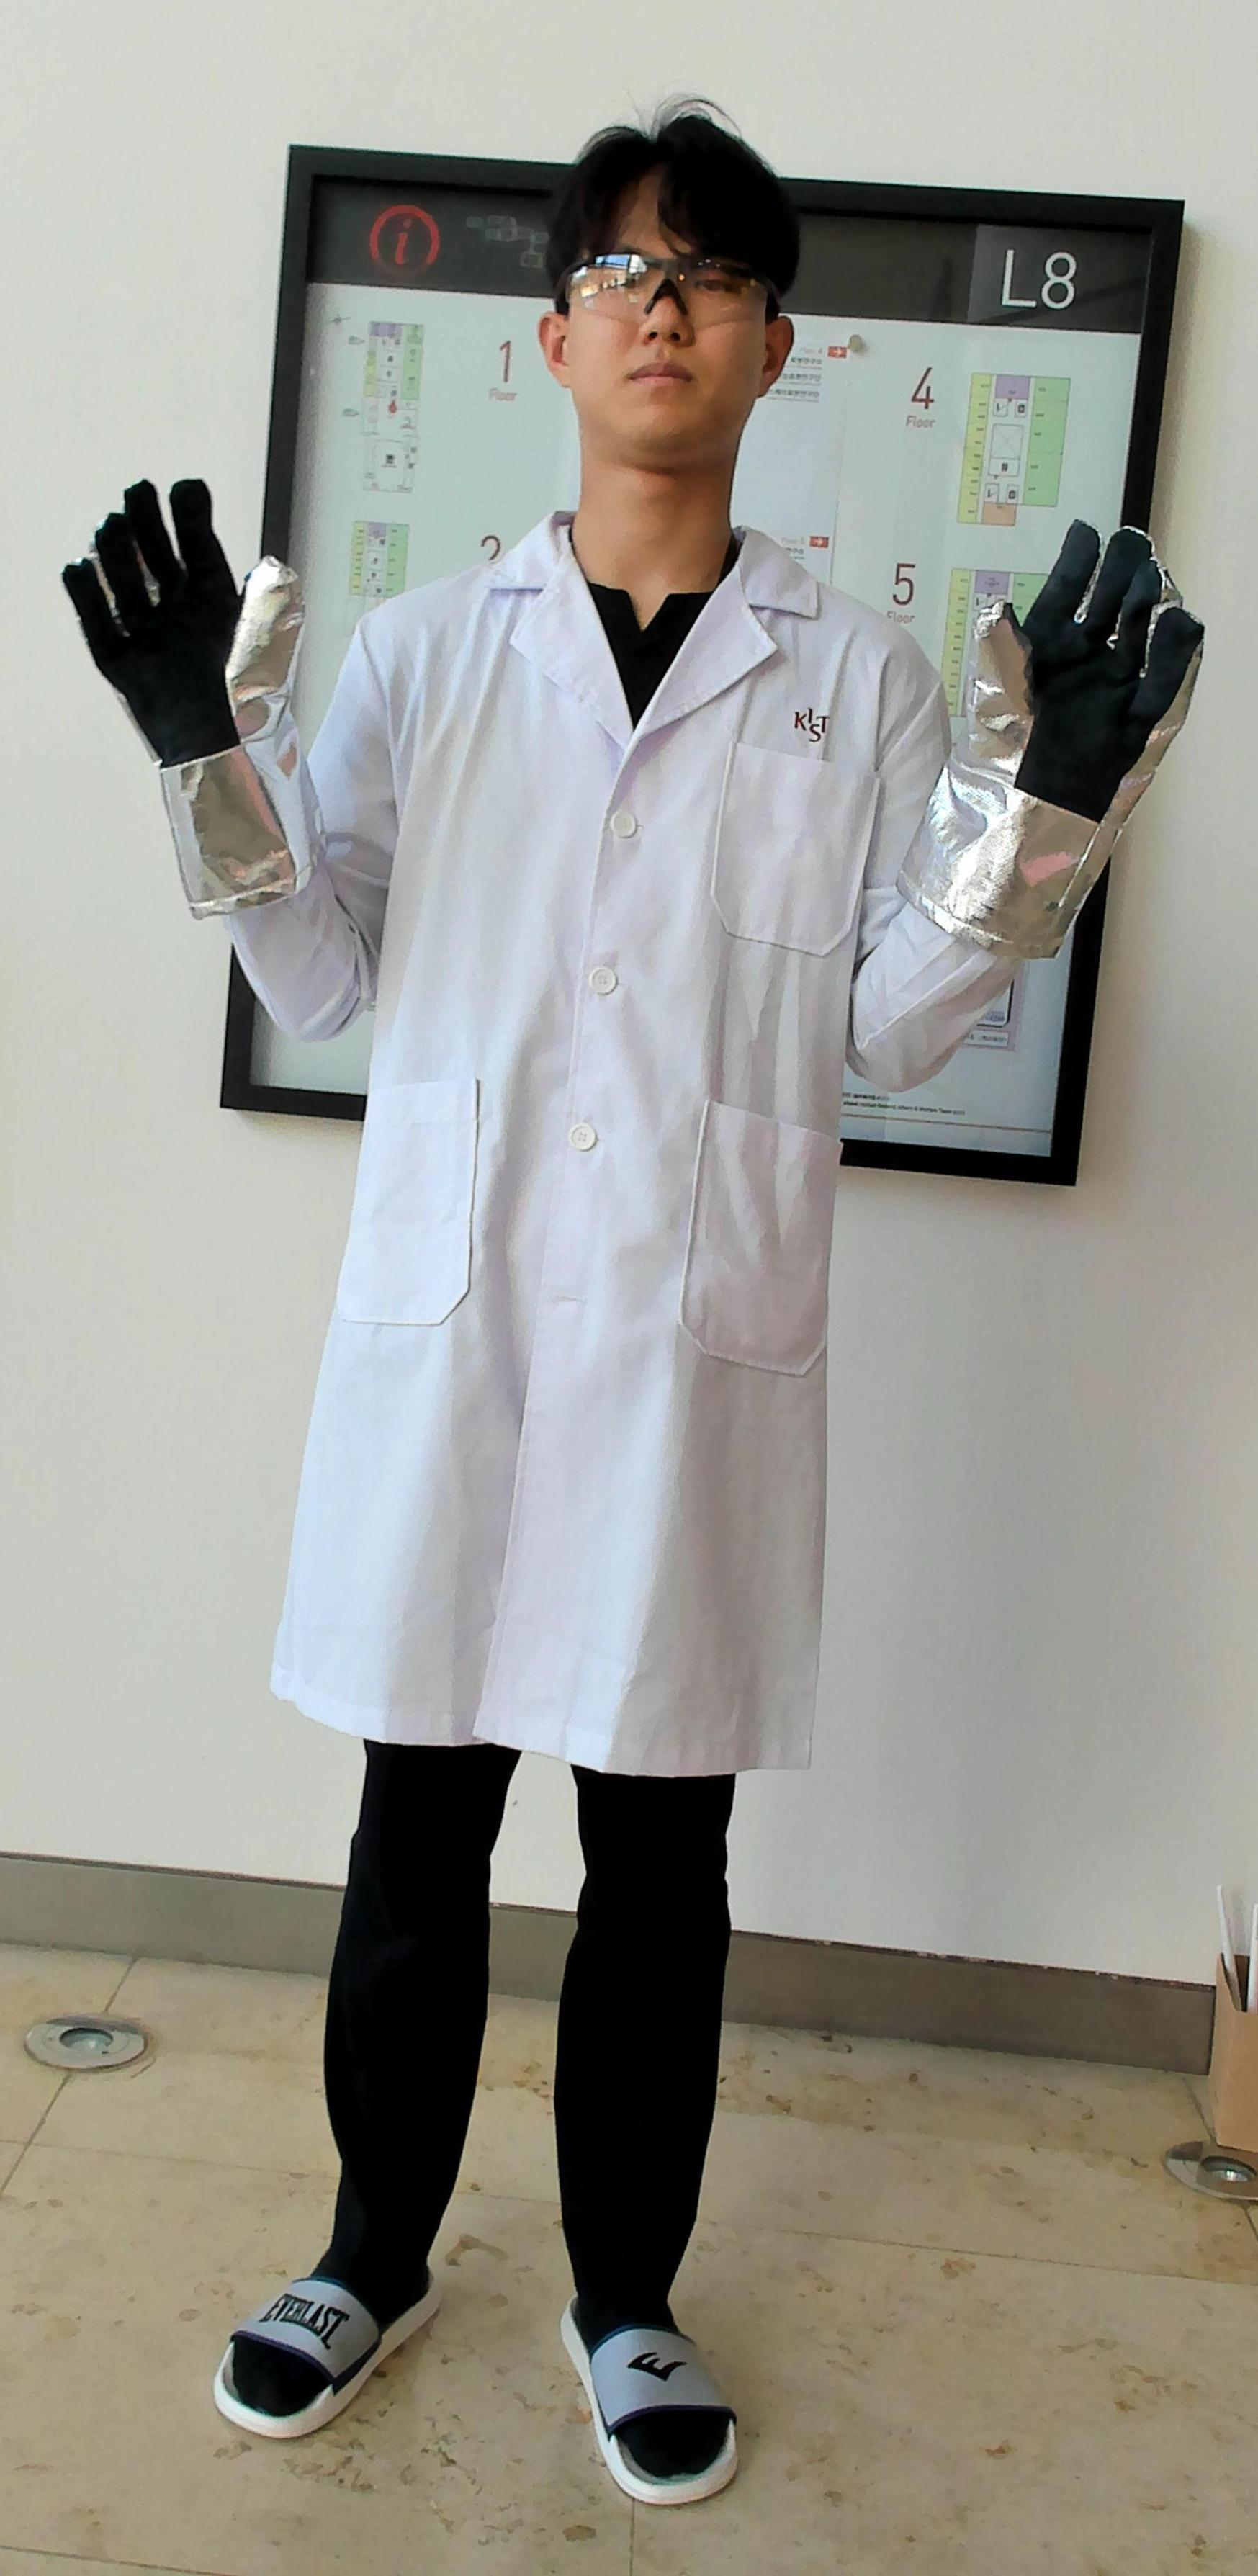lab_coat: (319, 621, 895, 1745)
